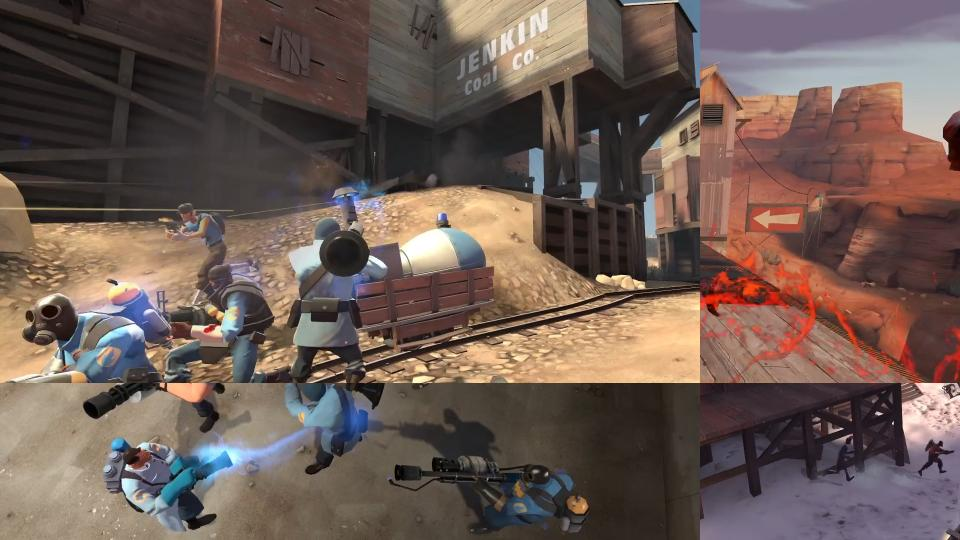Enemy: (386, 437, 598, 540), (0, 270, 184, 383), (92, 426, 246, 540), (160, 257, 296, 383), (283, 212, 382, 383), (259, 383, 389, 477), (81, 383, 234, 440), (157, 204, 232, 312), (823, 437, 859, 482), (918, 439, 954, 477)
